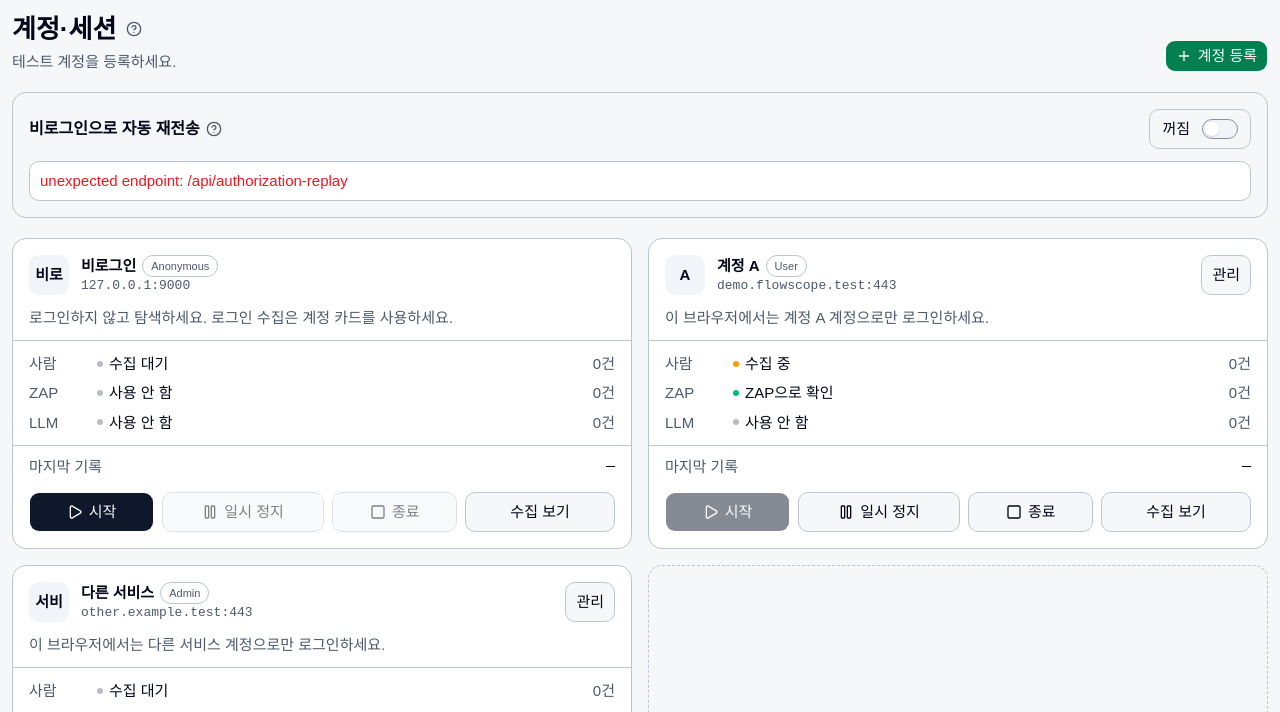
Test case: account and session management › does not show a false paused state when the server rejects the pause
Click the button with aria-label "계정 A 일시 정지".
click(879, 512)  # box [798,492,960,532]
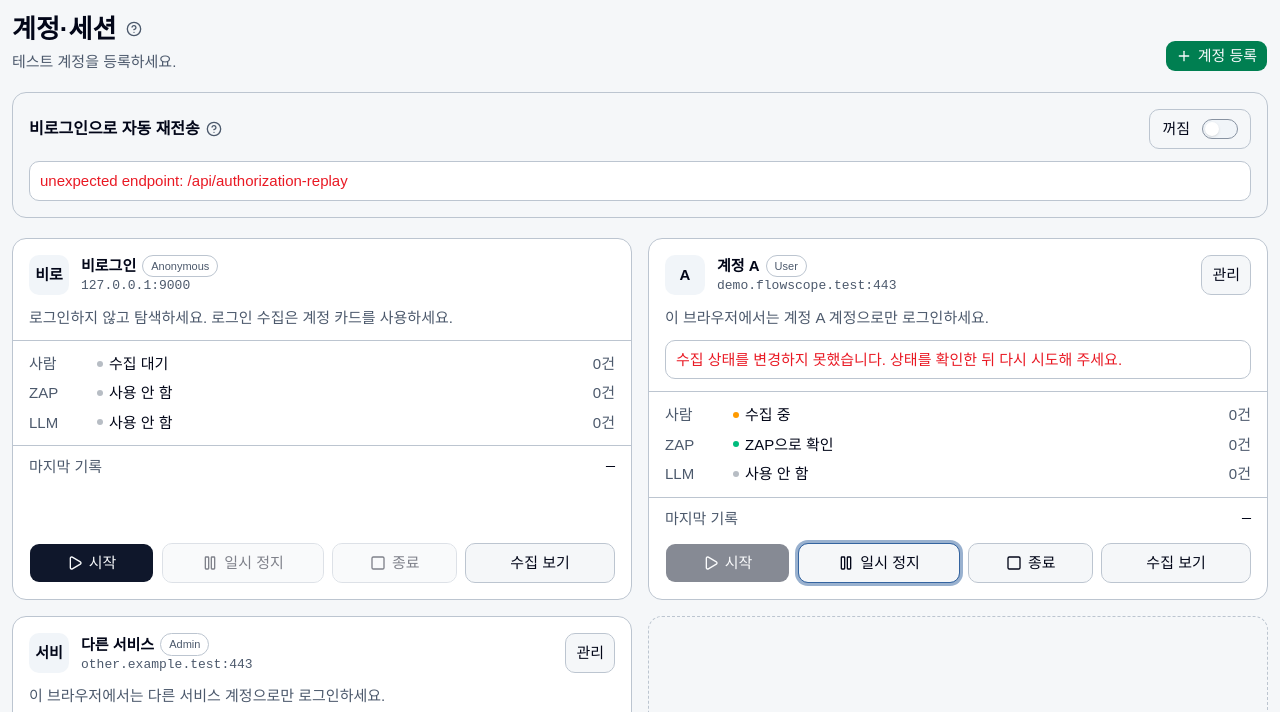
expect the button with aria-label "계정 A 수집 종료" is shown: met, box [968,543,1093,583]
expect the text "수집 상태를 변경하지 못했습니다. 상태를 확인한 뒤 다시 시도해 주세요." is shown: met, box [676,351,1122,368]
